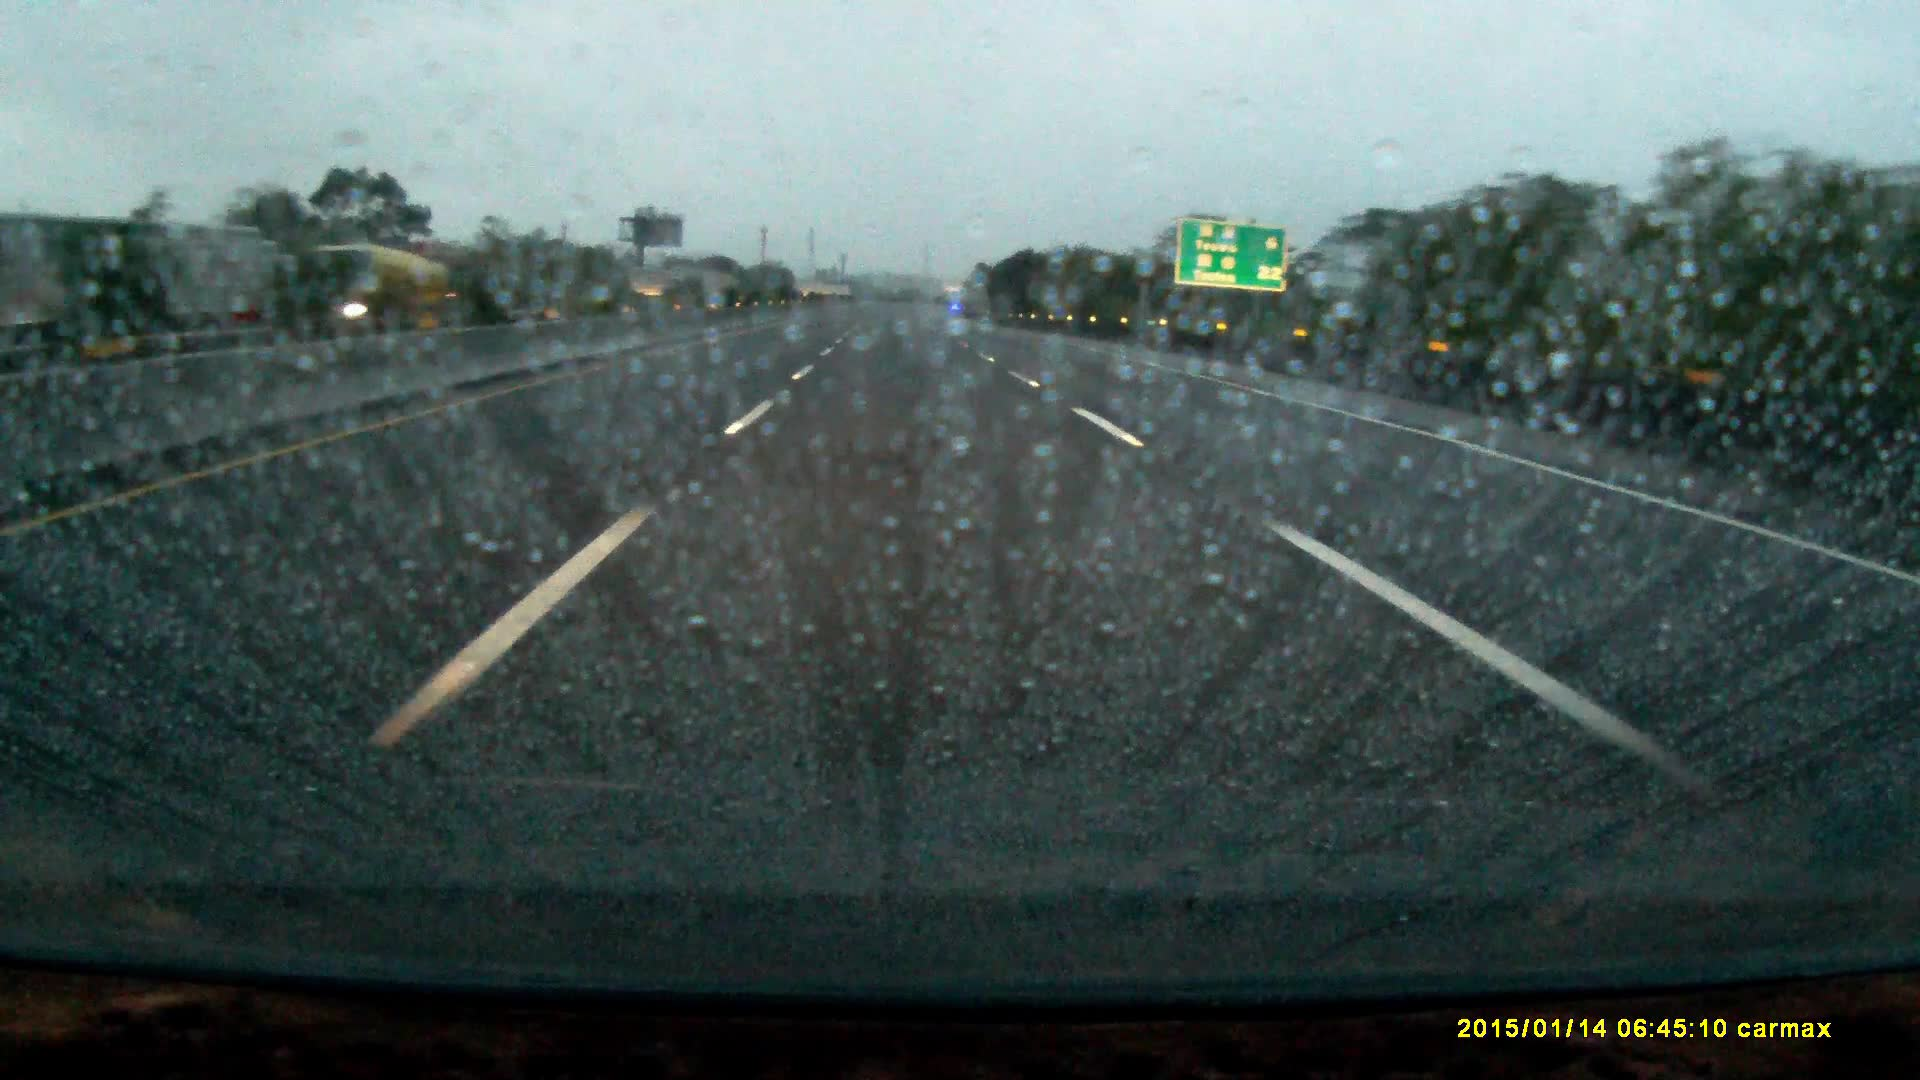vehicle: (276, 247, 452, 328), (294, 290, 407, 328)
